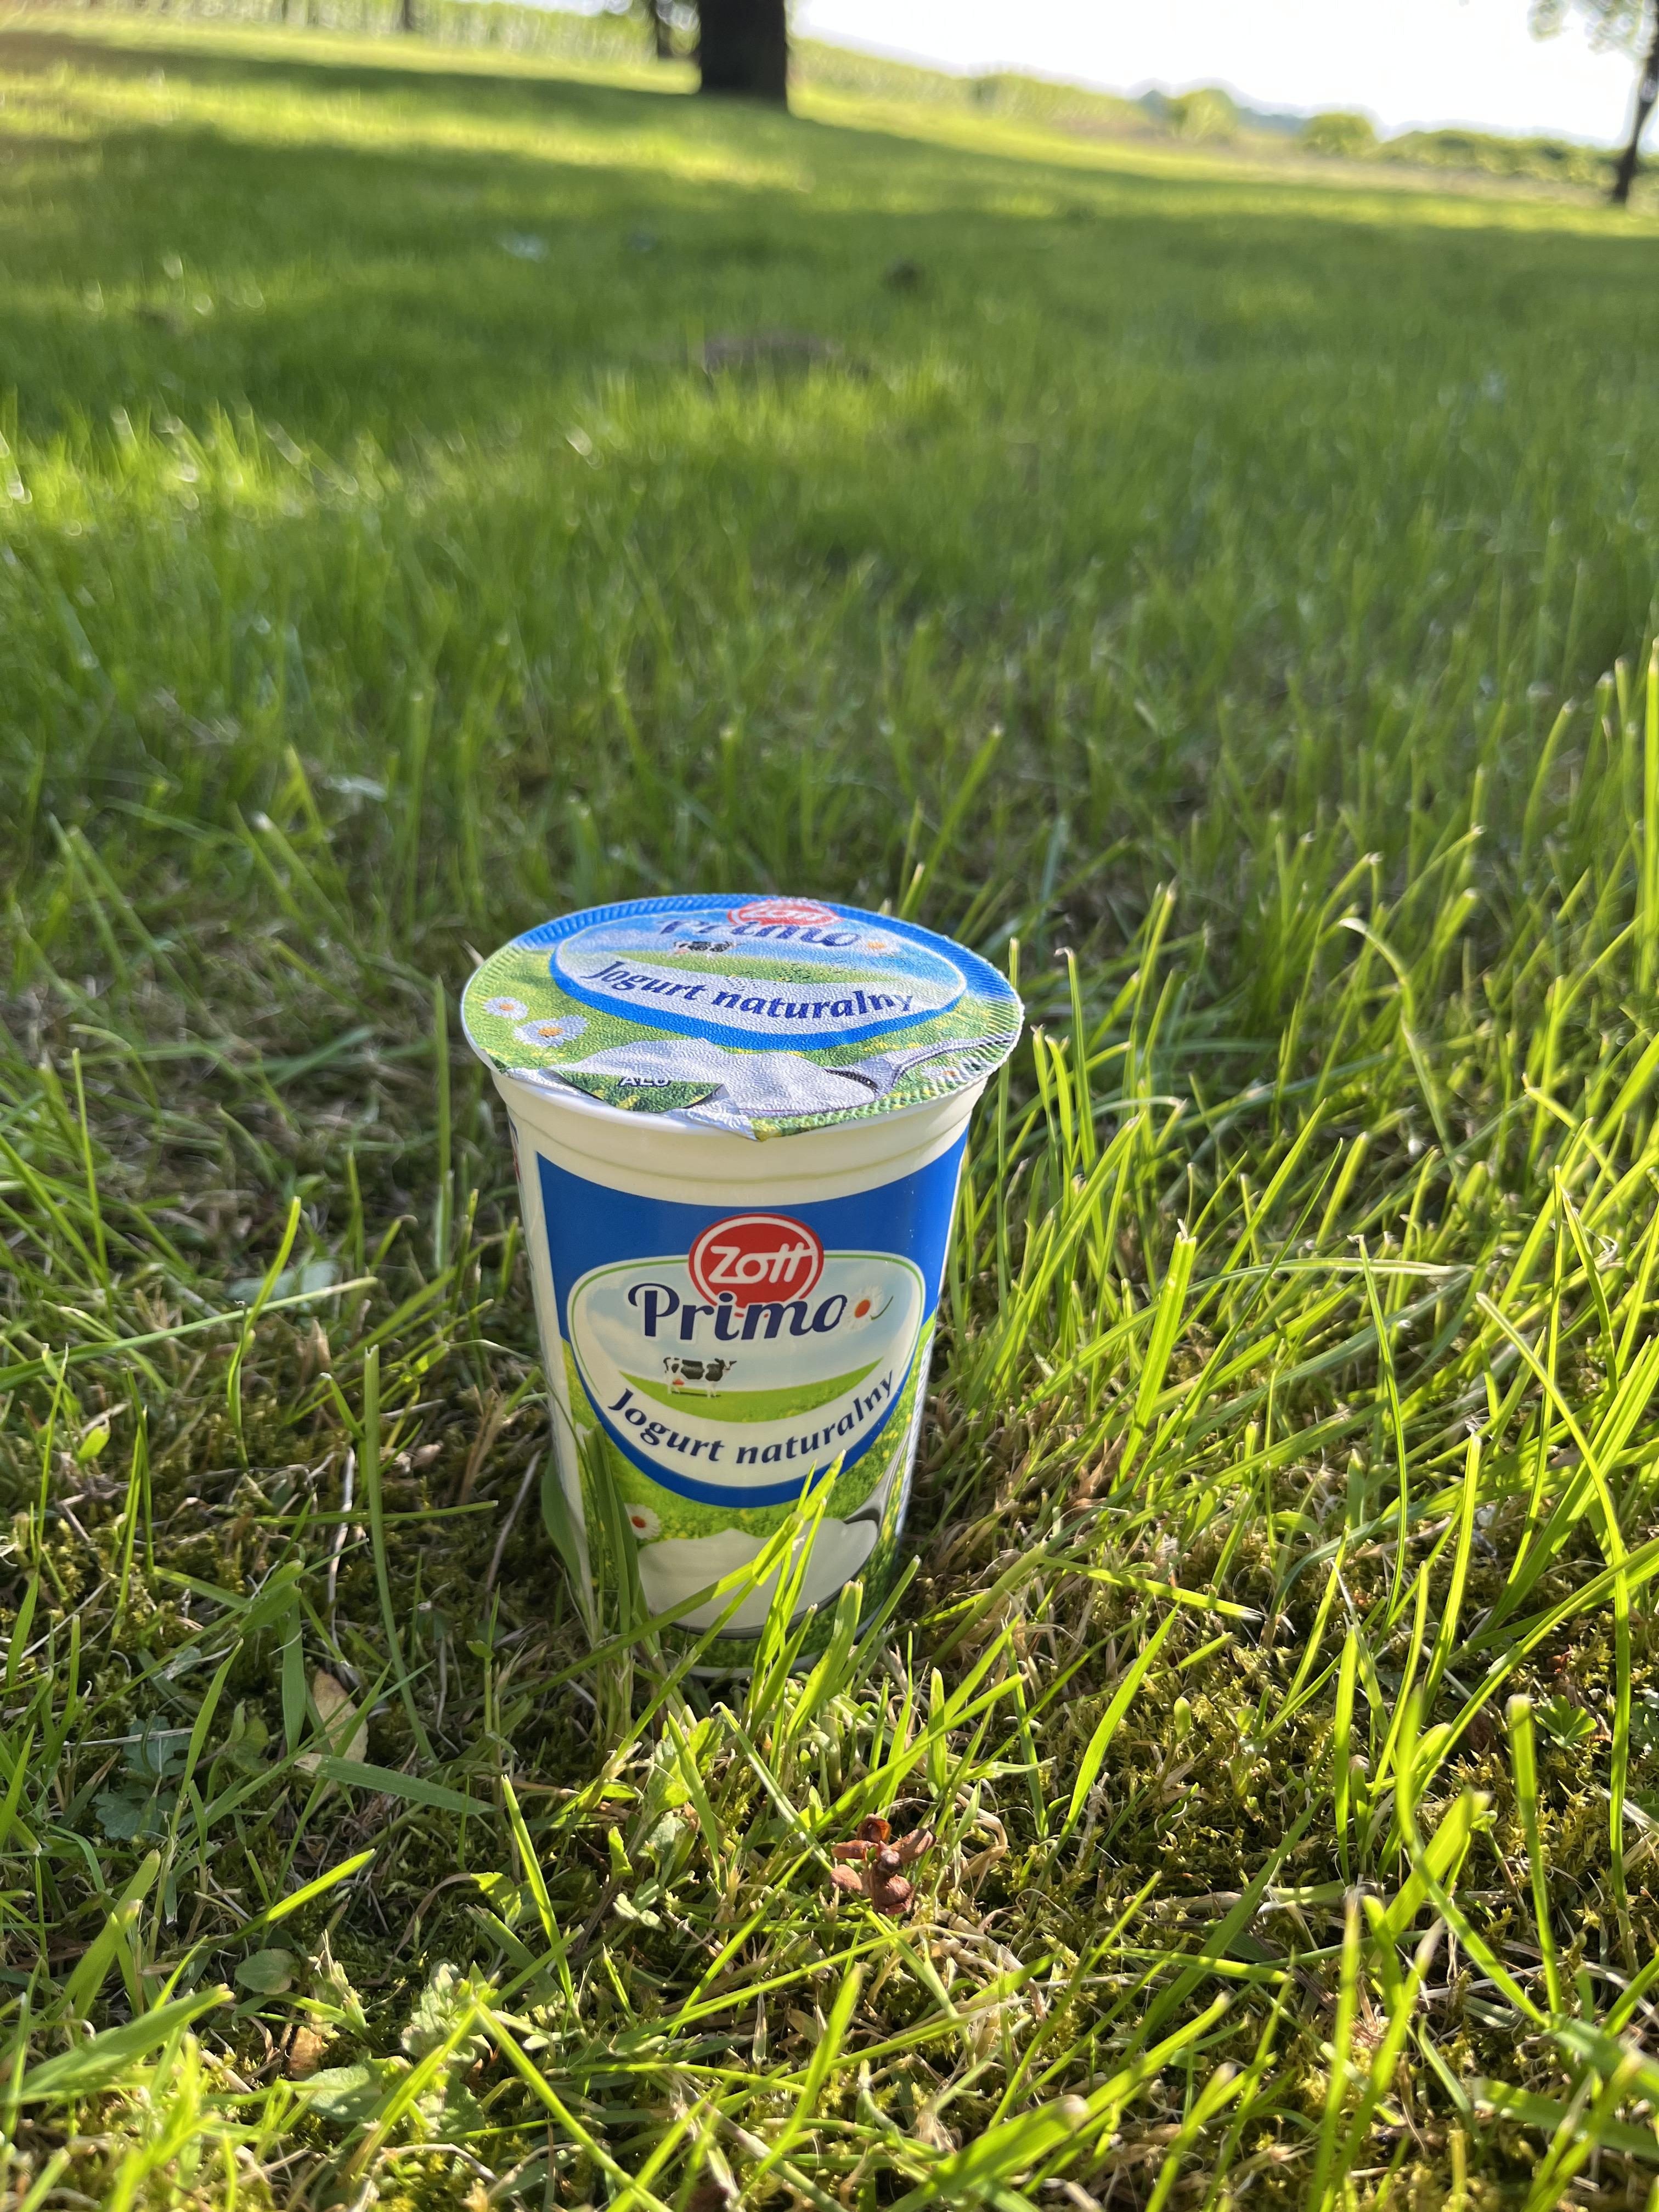Yogurt: (507, 897, 960, 1629)
